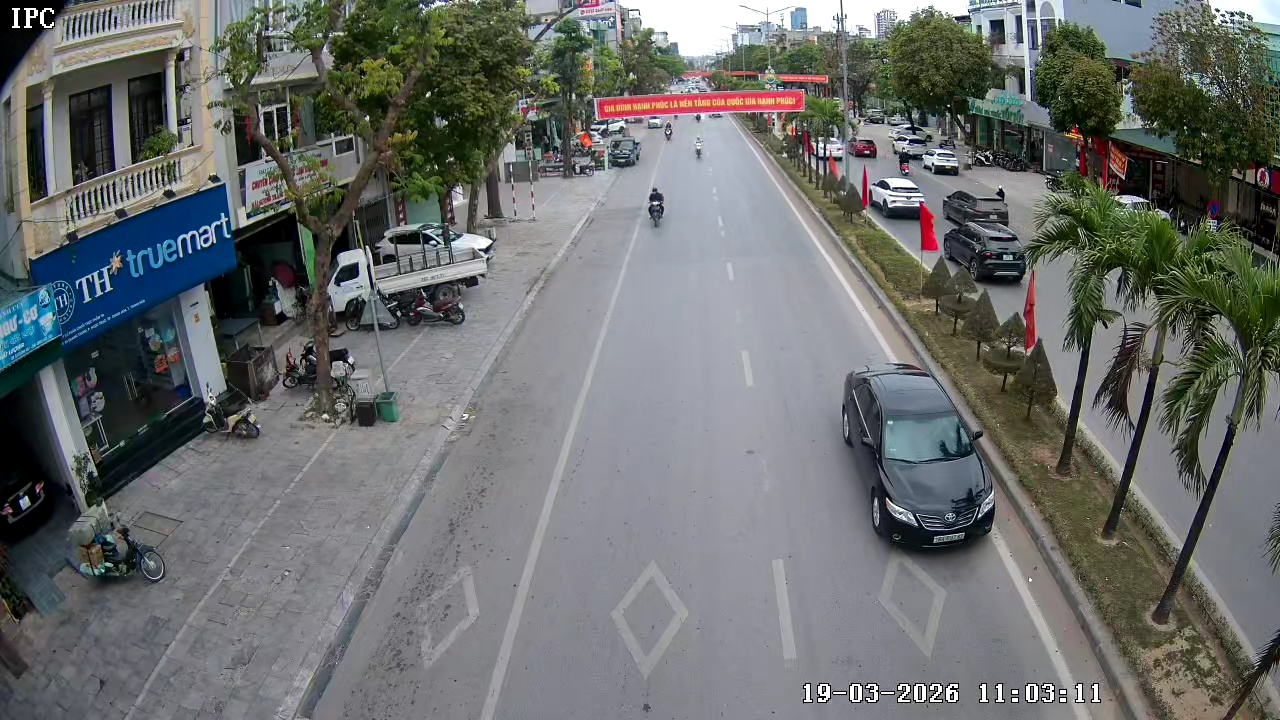car: (839, 362, 998, 547), (942, 216, 1028, 282), (941, 184, 1021, 228), (868, 174, 926, 219), (922, 145, 963, 174)
motorbike: (69, 504, 168, 586), (646, 183, 667, 229), (693, 134, 707, 162), (662, 121, 675, 142)
truck: (608, 134, 647, 168)
